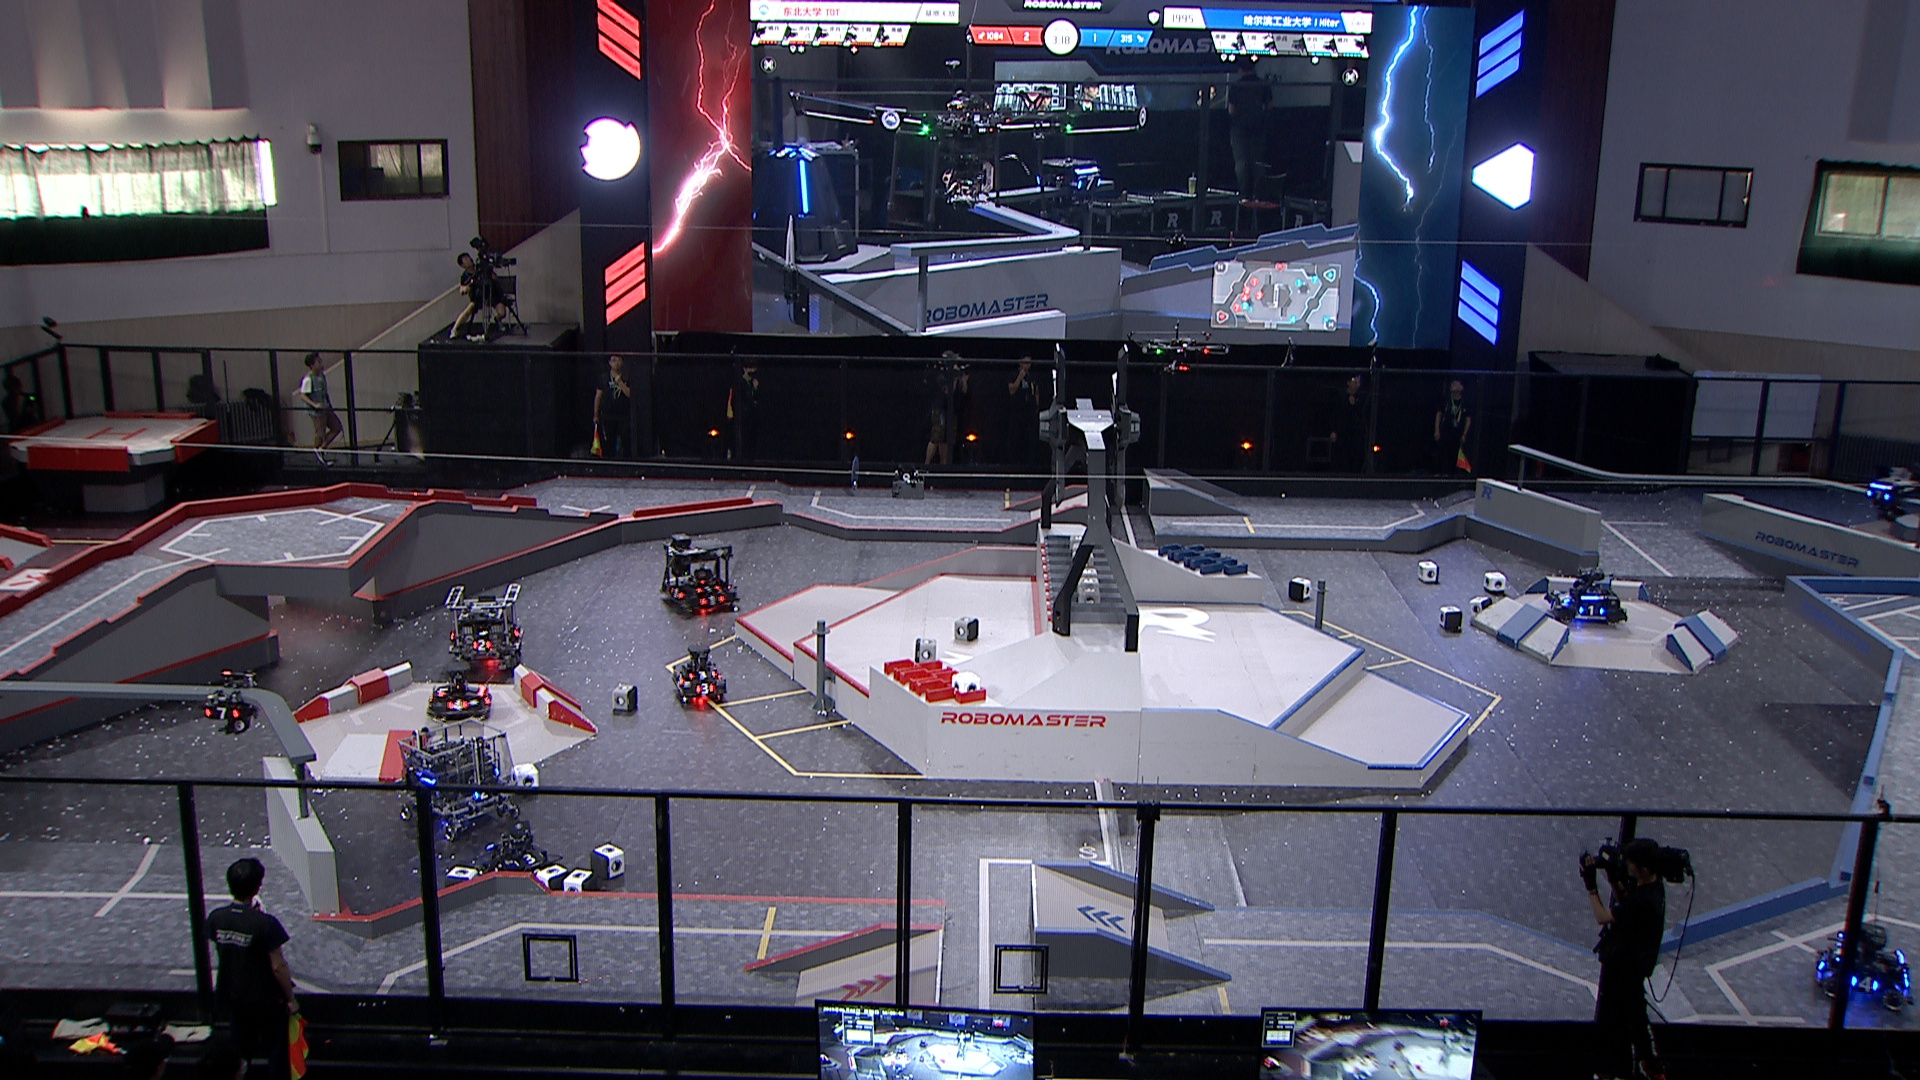armor: (514, 851, 546, 872), (204, 704, 239, 723), (1851, 975, 1882, 994), (699, 593, 727, 608), (1866, 485, 1892, 500), (1578, 603, 1600, 618), (467, 637, 491, 650), (446, 699, 469, 711), (694, 680, 713, 694), (695, 583, 719, 593), (473, 789, 495, 800), (1548, 595, 1561, 613), (688, 670, 713, 679), (434, 684, 451, 698), (1832, 943, 1845, 960), (669, 585, 683, 600), (675, 671, 686, 688)
car: (400, 717, 524, 837), (1813, 916, 1916, 1015), (436, 585, 526, 678), (655, 529, 742, 616), (480, 818, 568, 893), (1542, 564, 1634, 632), (422, 665, 501, 723), (666, 644, 727, 707)
ignore: (749, 148, 861, 272), (1051, 157, 1102, 200)
watcher: (200, 666, 264, 736), (1861, 462, 1917, 526)
